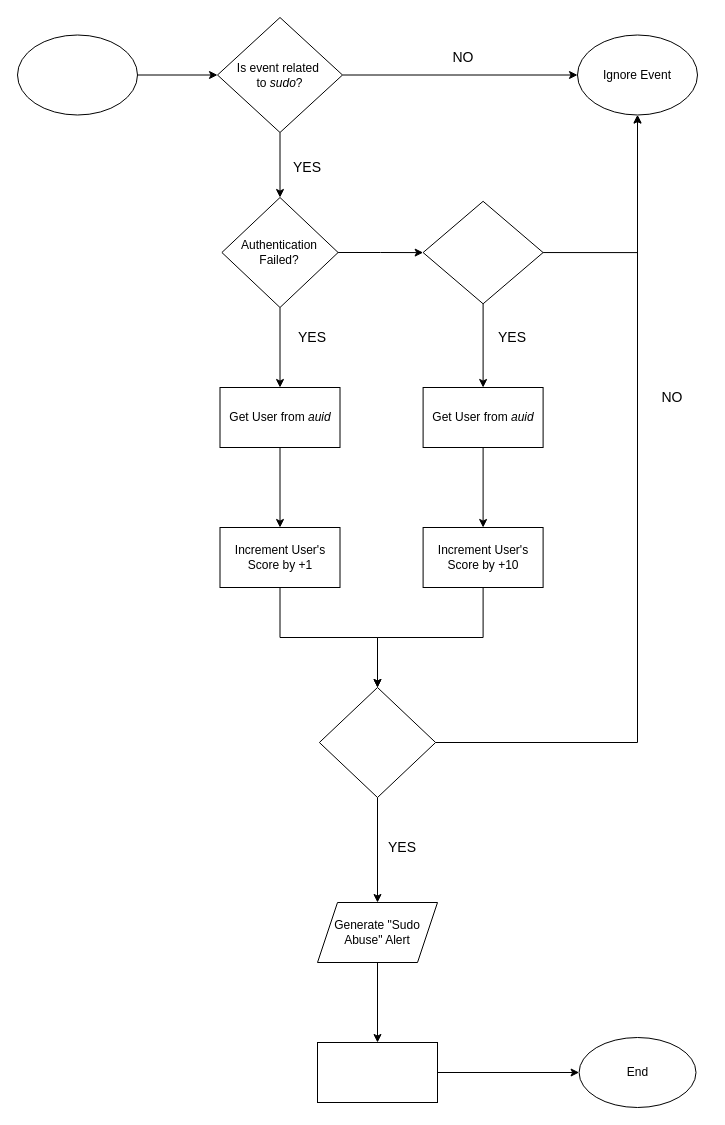
The diagram is 725 pixels wide and 1125 high, and some of its shapes have lost their labels. The shapes that lost their labels are listed below. From the top down, each one's centre as x and y in pixels, then its label:
At point (77, 74): "New Audit Event Received".
At point (482, 252): "Is command high-risk?".
At point (377, 742): "User's Score > Threshold?".
At point (377, 1072): "Reset User's Score to 0".
